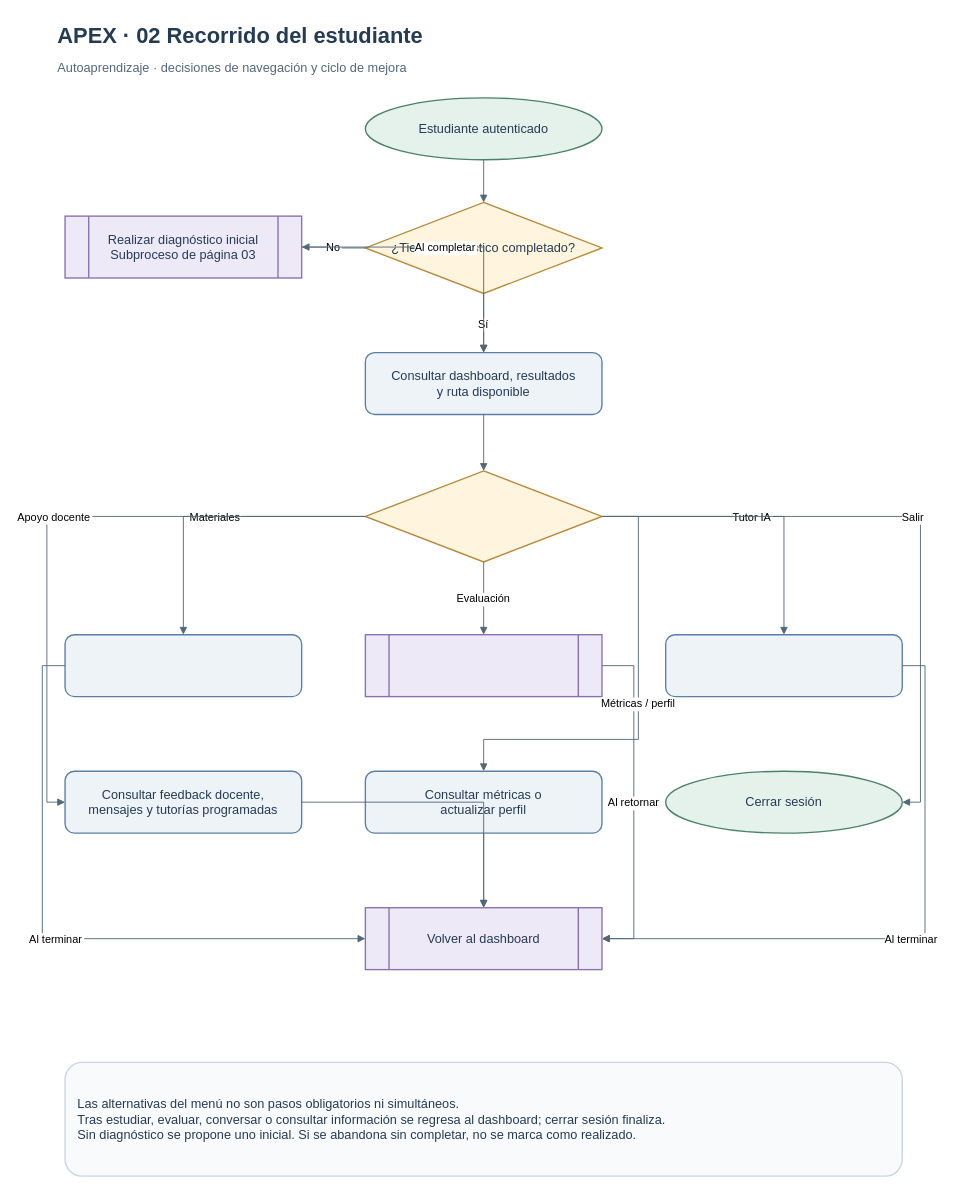
Some shapes in this 954 by 1192 pixel diagram are drawn without their labels. The shapes that lost their labels are listed below. From the top down, each one's centre as x and y in pixels, then its label:
At pixel 483 516: "¿Qué desea hacer?".
At pixel 183 665: "Estudiar materiales de la ruta; registrar avance del módulo".
At pixel 483 665: "Realizar nuevo simulacro Subproceso de página 03".
At pixel 784 665: "Consultar tutor IA; guardar conversación e historial".
